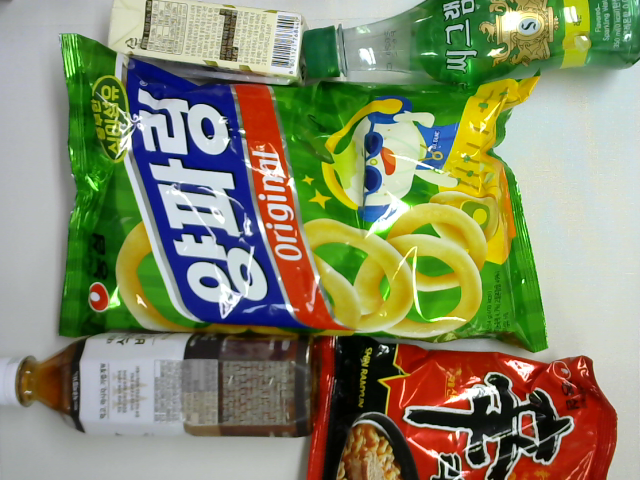99.89_Soymilk: (105, 1, 313, 90)
Oninon_Ring: (55, 31, 550, 355)
Post-meal_recipe_W_tea_500ml: (1, 330, 322, 439)
Seagram_Lemon_Carbonated_Water: (300, 1, 640, 89)
Sinramen: (305, 333, 620, 480)
